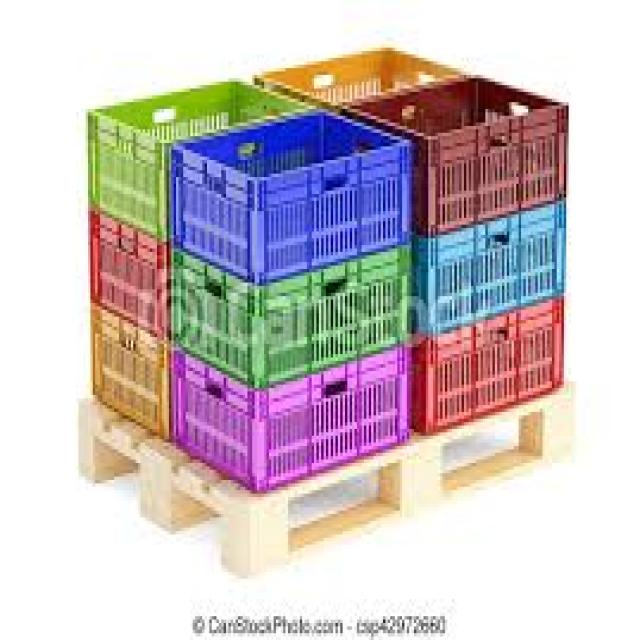basket: (149, 85, 437, 305), (45, 15, 285, 259), (346, 48, 593, 249), (169, 243, 416, 390), (171, 347, 412, 492), (388, 290, 593, 439), (391, 193, 592, 340), (255, 32, 465, 120), (90, 303, 169, 437), (90, 211, 169, 337)
